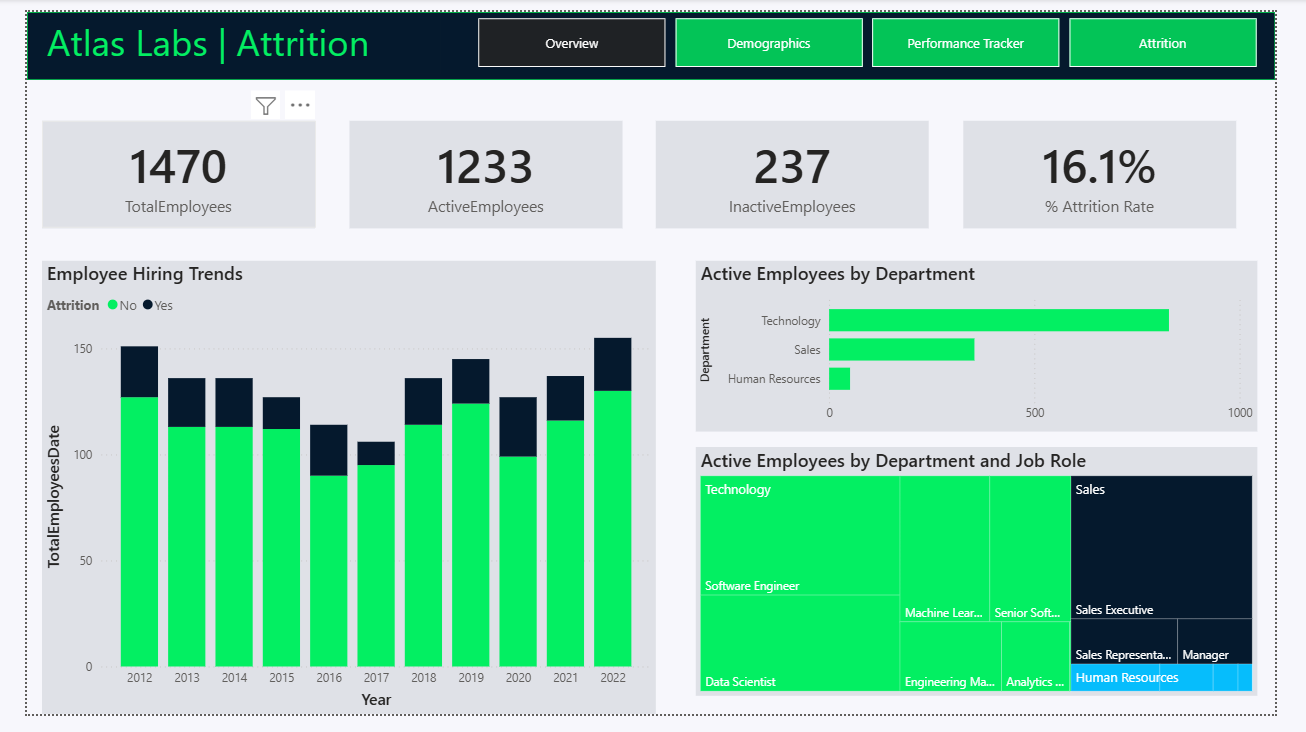

The dashboard page shown, as its layout file describes it:
{"tool":"powerbi","page":{"name":"Overview","canvas":[1280,720],"ordinal":0},"visuals":[{"type":"card","fields":{"Values":["_Measures.TotalEmployees"]},"box":[15.9,111.3,280,110],"z":0},{"type":"card","fields":{"Values":["_Measures.ActiveEmployees"]},"box":[330.6,111.3,280,110],"z":1000},{"type":"card","fields":{"Values":["_Measures.InactiveEmployees"]},"box":[645.2,111.3,280,110],"z":2000},{"type":"card","fields":{"Values":["_Measures.% Attrition Rate"]},"box":[959.9,111.3,280,110],"z":3000},{"type":"columnChart","title":"Employee Hiring Trends","fields":{"Category":["DimDate.Date.Variation.Date Hierarchy.Year","DimDate.Date.Variation.Date Hierarchy.Quarter","DimDate.Date.Variation.Date Hierarchy.Month","DimDate.Date.Variation.Date Hierarchy.Day"],"Y":["_Measures.TotalEmployeesDate"],"Series":["DimEmployee.Attrition"]},"box":[15.9,255.6,629.8,464.7],"z":4000},{"type":"clusteredBarChart","title":"Active Employees by Department","fields":{"Category":["DimEmployee.Department"],"Y":["_Measures.ActiveEmployees"]},"box":[686,255.6,576,174.9],"z":5000},{"type":"treemap","title":"Active Employees by Department and Job Role","fields":{"Values":["_Measures.ActiveEmployees"],"Group":["DimEmployee.Department"],"Details":["DimEmployee.JobRole"]},"box":[686,446.3,576,255.6],"z":6000},{"type":"shape","box":[0,0,1280.3,69.7],"z":7000},{"type":"textbox","box":[15.9,0,408.4,63.6],"z":8000},{"type":"pageNavigator","box":[462.2,6.1,799.7,50.1],"z":9000}]}

Visuals, with their boxes in screenshot pixels (x1, y1, x2, y2), scaled from the page's 1280x720 canvas onto the 1306x732 screenshot:
card - _Measures.TotalEmployees: bbox(16, 113, 302, 225)
card - _Measures.ActiveEmployees: bbox(337, 113, 623, 225)
card - _Measures.InactiveEmployees: bbox(658, 113, 944, 225)
card - _Measures.% Attrition Rate: bbox(979, 113, 1265, 225)
"Employee Hiring Trends" columnChart: bbox(16, 260, 659, 731)
"Active Employees by Department" clusteredBarChart: bbox(700, 260, 1288, 438)
"Active Employees by Department and Job Role" treemap: bbox(700, 454, 1288, 714)
shape: bbox(0, 0, 1305, 71)
textbox: bbox(16, 0, 433, 65)
pageNavigator: bbox(472, 6, 1288, 57)
